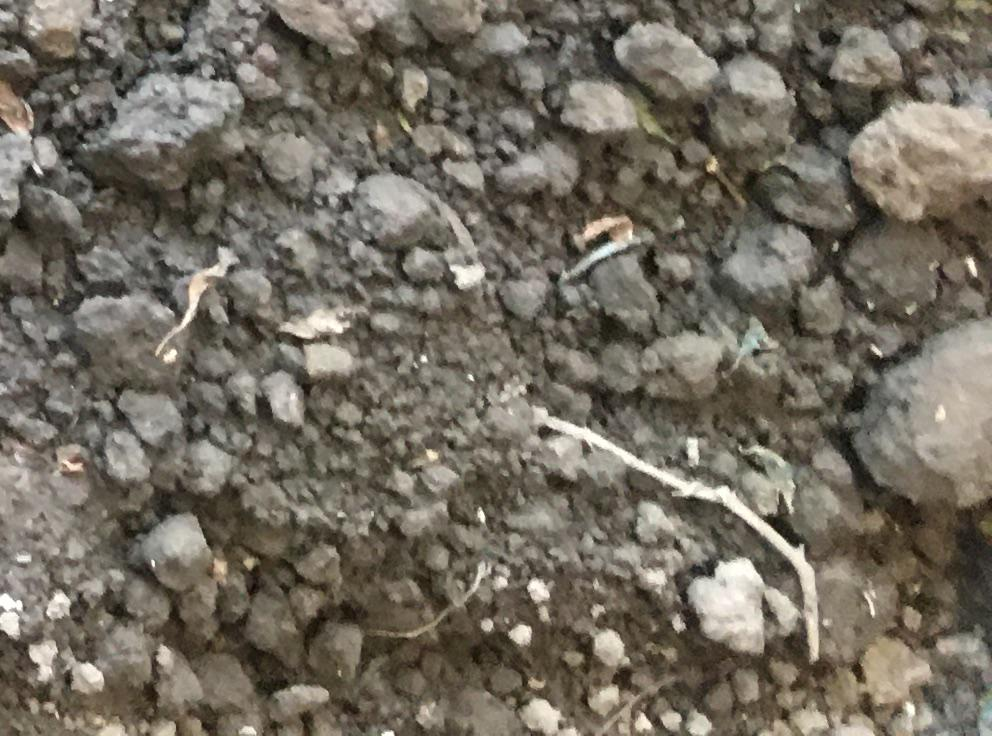block: (873, 322, 992, 505), (78, 78, 244, 188), (852, 100, 992, 218)
